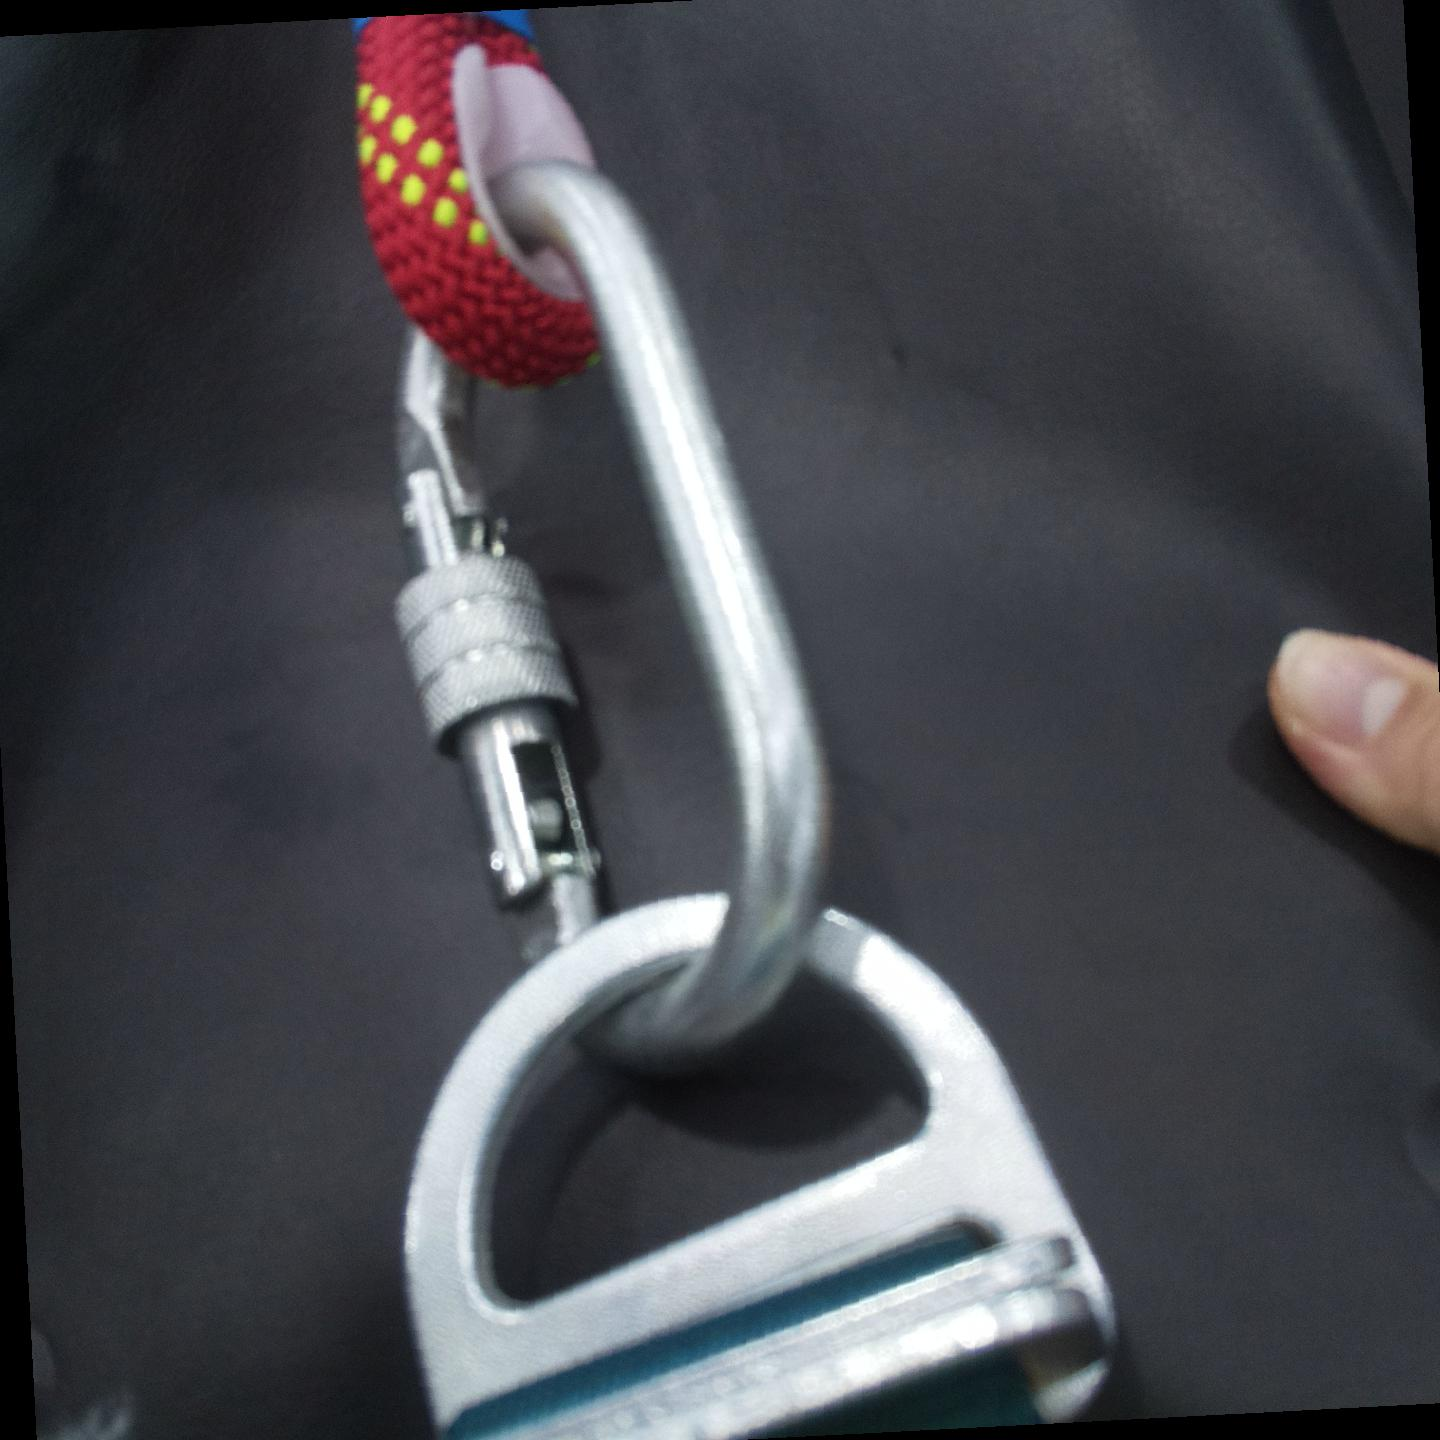SUCCESS: (382, 509, 1077, 1433)
